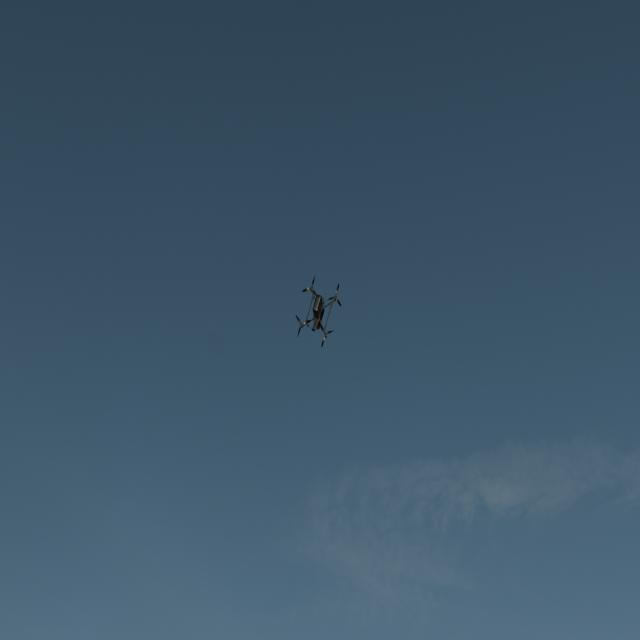drone: (287, 258, 348, 361)
